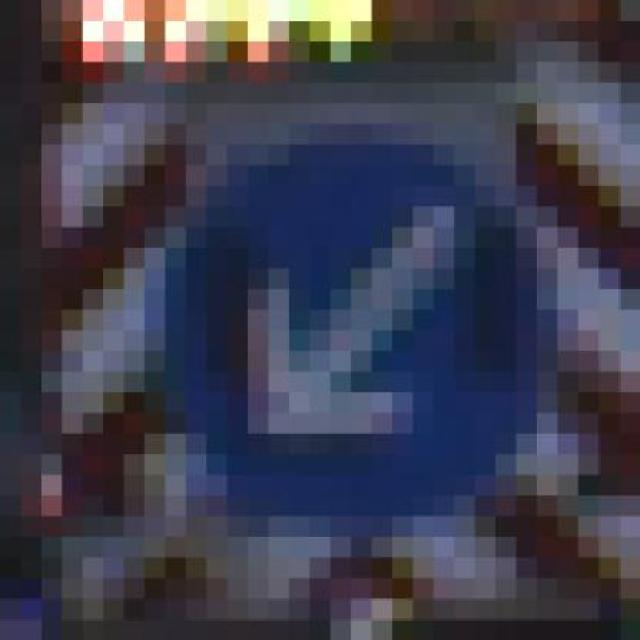Keep-Left: (124, 83, 578, 537)
